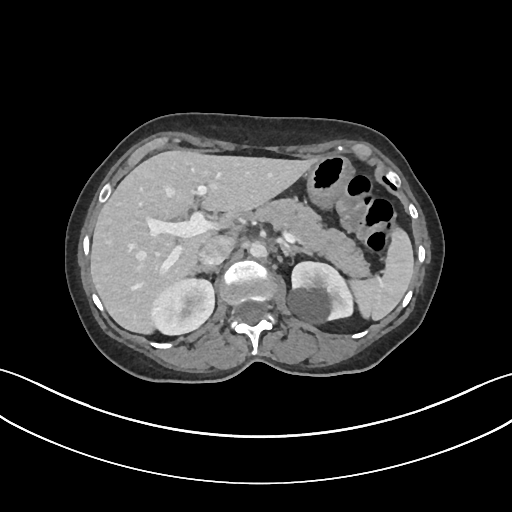Lesion: (285, 284, 335, 329)
